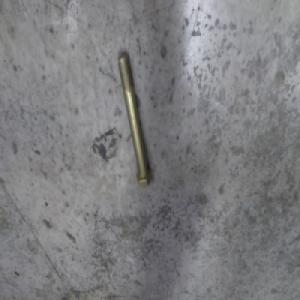Bolt: (121, 52, 154, 186)
